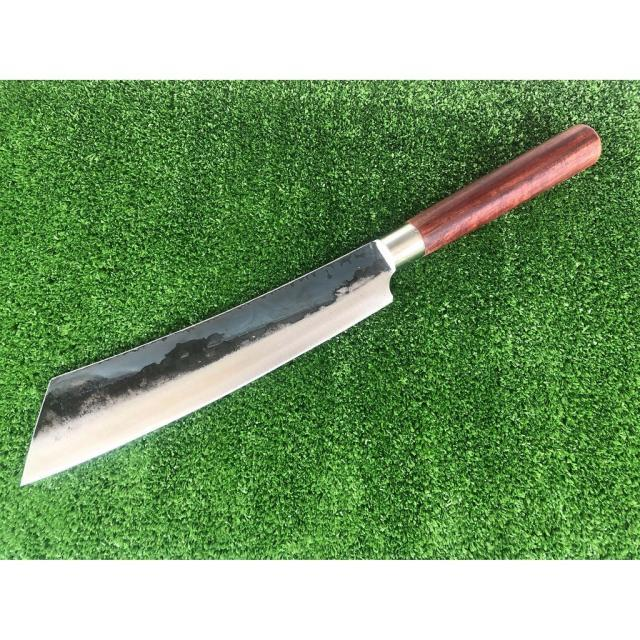eto: (14, 112, 617, 499)
